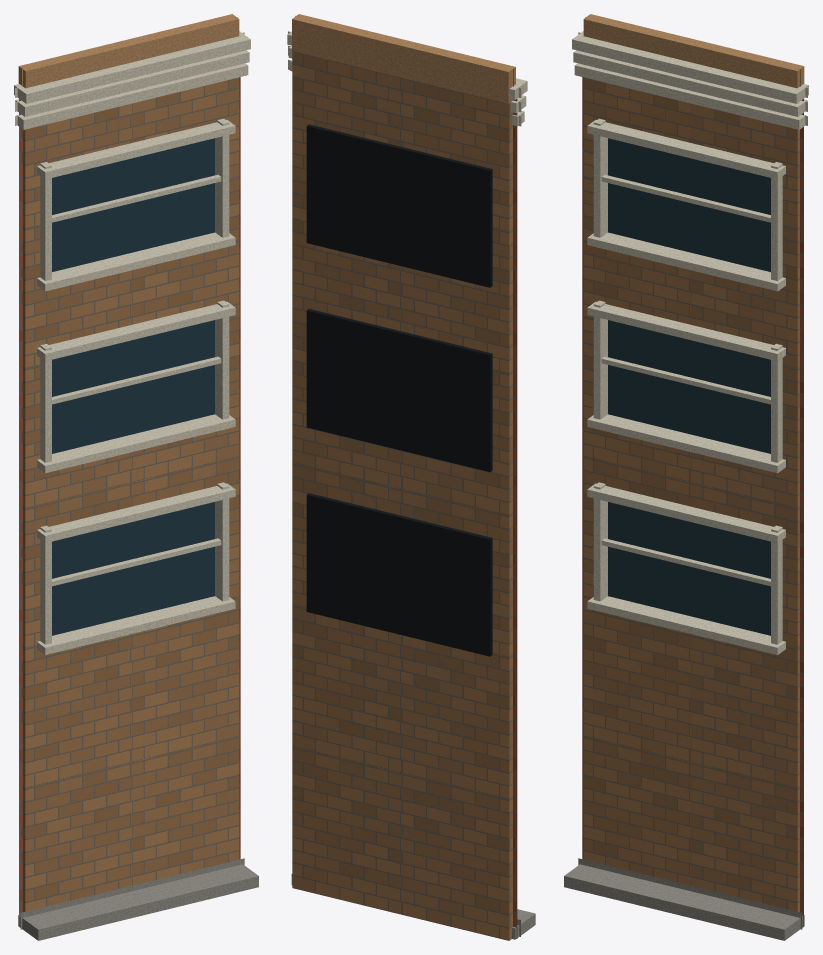
File: WRHS1_lod2.glb
3 renders of one model, left to right at view 1: azimuth 30°, elevation 25°; view 2: azimuth 150°, elevation 25°; view 3: azimuth 330°, elevation 25°, orthographic.
Visible parts, largest first — view 1: WRHS1_FRONT_LOD2; view 2: WRHS1_FRONT_LOD2; view 3: WRHS1_FRONT_LOD2.
Boxes of the visible parts, left/top/right/bottom form: WRHS1_FRONT_LOD2: left=14, top=14, right=258, bottom=940; WRHS1_FRONT_LOD2: left=287, top=14, right=535, bottom=940; WRHS1_FRONT_LOD2: left=564, top=14, right=808, bottom=940.
Bounding box in the file's own units: 3.44 × 12.26 × 0.65.
Materials: 8 (6 with a texture image).
